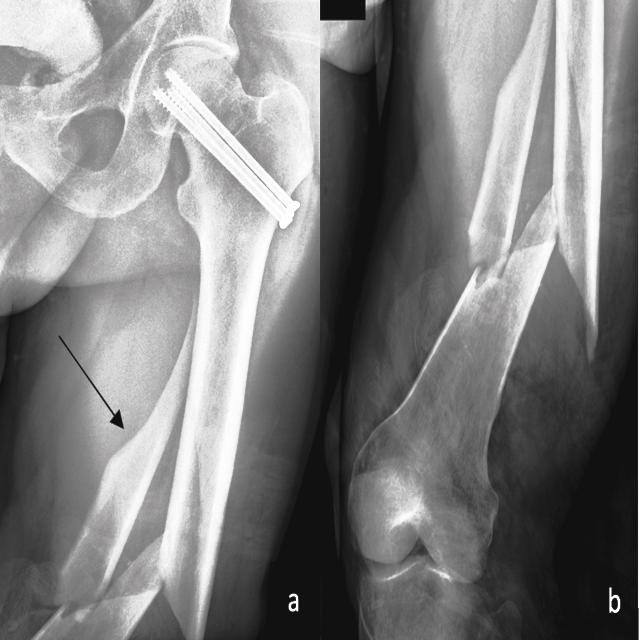Comminuted Fracture: (454, 165, 614, 333)
